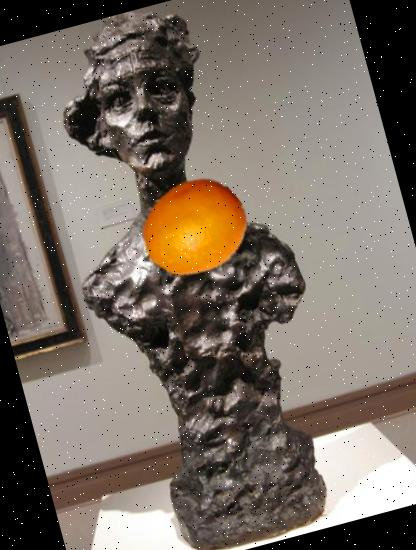Lemon: (129, 164, 260, 295)
